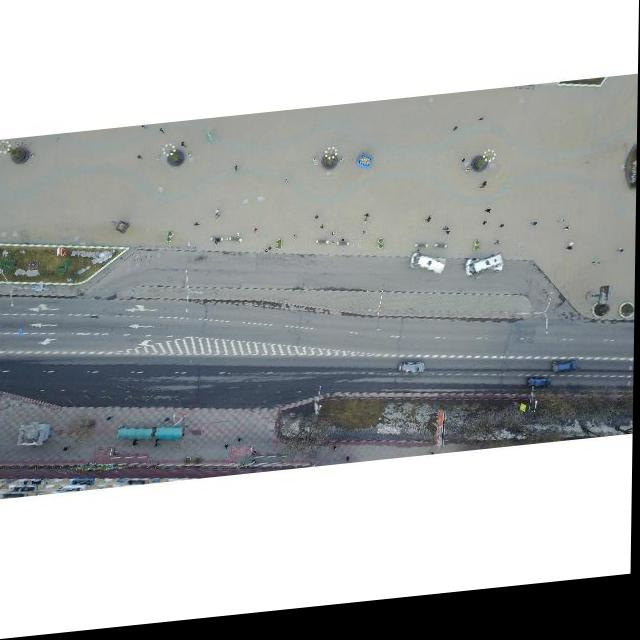vehicle: (465, 262, 507, 290), (409, 260, 448, 286), (554, 370, 582, 388), (400, 369, 428, 385), (529, 384, 553, 400)
